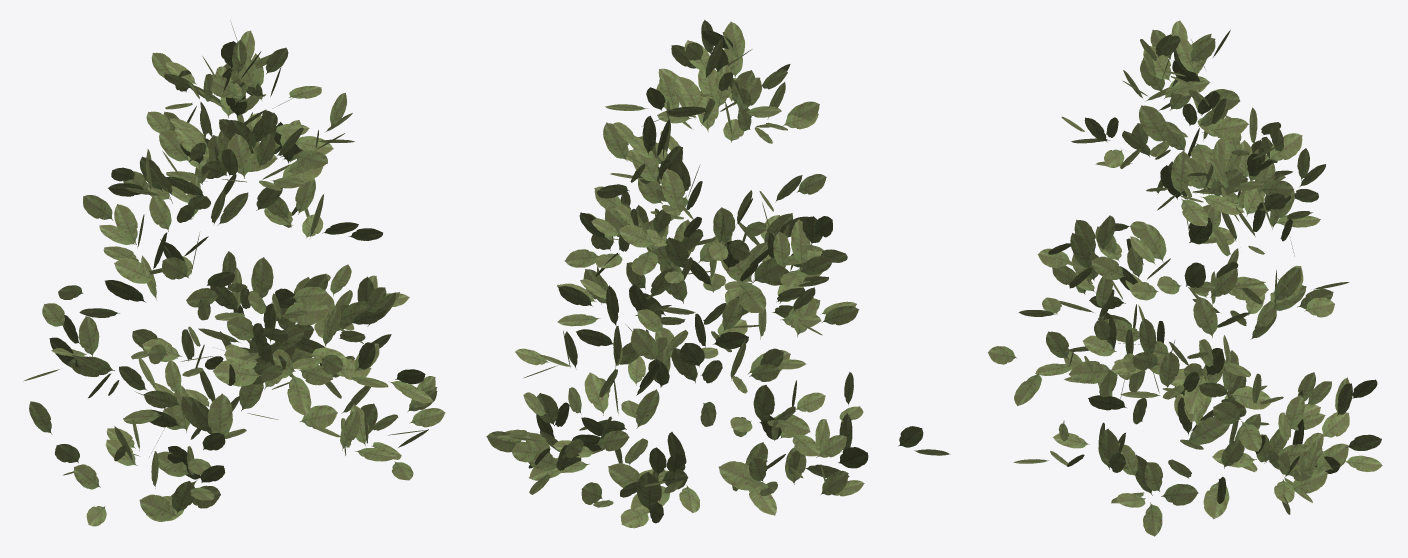
File: Bush_Leaves02.fbx
The picture shows the model from 3 angles, left to right: view 1: azimuth 30°, elevation 25°; view 2: azimuth 150°, elevation 25°; view 3: azimuth 270°, elevation 25°; orthographic projection. The views are drawn at different scales.
Visible parts, largest first — view 1: Bush_Leaves02; view 2: Bush_Leaves02; view 3: Bush_Leaves02.
Boxes of the visible parts, x1,y1,x2,y2 form: Bush_Leaves02: [23, 21, 445, 526]; Bush_Leaves02: [486, 20, 949, 528]; Bush_Leaves02: [988, 20, 1382, 536].
Size of the model in its own units: 56 by 70.06 by 57.73.
